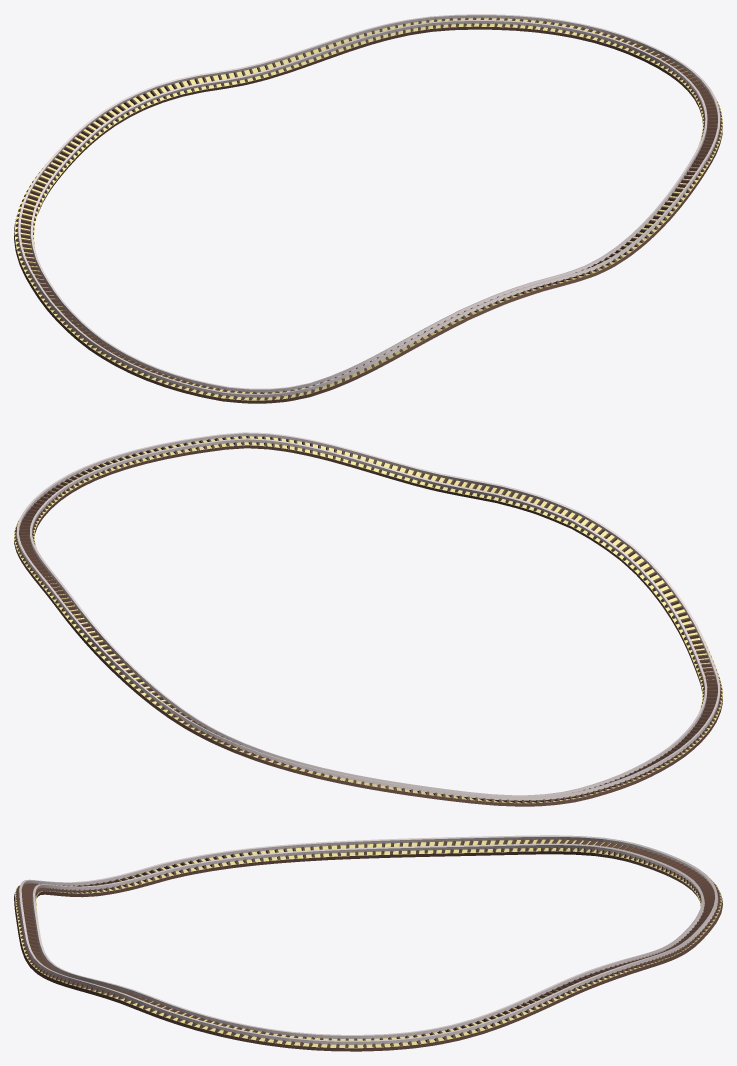
The model's file is tracks1.fbx.
3 views of the same model, one above another, from view 1: azimuth 30°, elevation 25°; view 2: azimuth 150°, elevation 25°; view 3: azimuth 270°, elevation 25° (orthographic). The views are drawn at different scales.
Visible parts, largest first — view 1: Cube.019, Cube.018, Cube.020, Cube.017, Cube.021, Cube.016, Cube.023, Cube.022, Cube.024, Cube, Cube.001, Cube.015 (+19 smaller); view 2: Cube.036, Cube.033, Cube.032, Cube.035, Cube.037, Cube.034, Cube.031, Cube.038, Cube.030, Cube.029, Cube.020, Cube.028 (+20 smaller); view 3: Cube.005, Cube.011, Cube.004, Cube.012, Cube.003, Cube.026, Cube.027, Cube.025, Cube.028, Cube.001, Cube.013, Cube.024 (+19 smaller).
Boxes of the visible parts, bbox=[...] form: Cube.019: bbox=[238, 51, 305, 85]; Cube.018: bbox=[176, 68, 243, 96]; Cube.020: bbox=[299, 31, 364, 67]; Cube.017: bbox=[121, 79, 182, 115]; Cube.021: bbox=[360, 17, 424, 46]; Cube.016: bbox=[79, 100, 132, 143]; Cube.023: bbox=[484, 14, 549, 33]; Cube.022: bbox=[422, 14, 486, 32]; Cube.024: bbox=[545, 18, 609, 44]; Cube: bbox=[222, 387, 289, 403]; Cube.001: bbox=[165, 374, 229, 401]; Cube.015: bbox=[44, 130, 92, 175]; Cube.036: bbox=[577, 516, 638, 564]; Cube.033: bbox=[406, 466, 473, 497]; Cube.032: bbox=[345, 449, 411, 483]; Cube.035: bbox=[524, 493, 587, 531]; Cube.037: bbox=[625, 551, 678, 605]; Cube.034: bbox=[467, 479, 531, 510]; Cube.031: bbox=[283, 435, 348, 465]; Cube.038: bbox=[662, 595, 706, 648]; Cube.030: bbox=[219, 432, 285, 451]; Cube.029: bbox=[158, 434, 224, 459]; Cube.020: bbox=[101, 651, 155, 697]; Cube.028: bbox=[103, 444, 166, 473]; Cube.005: bbox=[343, 838, 414, 859]; Cube.011: bbox=[412, 836, 484, 857]; Cube.004: bbox=[271, 841, 343, 863]; Cube.012: bbox=[481, 835, 553, 855]; Cube.003: bbox=[202, 846, 275, 871]; Cube.026: bbox=[333, 1032, 406, 1051]; Cube.027: bbox=[261, 1028, 334, 1051]; Cube.025: bbox=[402, 1021, 475, 1048]; Cube.028: bbox=[196, 1015, 268, 1044]; Cube.001: bbox=[139, 855, 209, 884]; Cube.013: bbox=[545, 835, 610, 856]; Cube.024: bbox=[465, 1001, 532, 1035].
Size of the model in its own units: 1636 by 335 by 1474.
